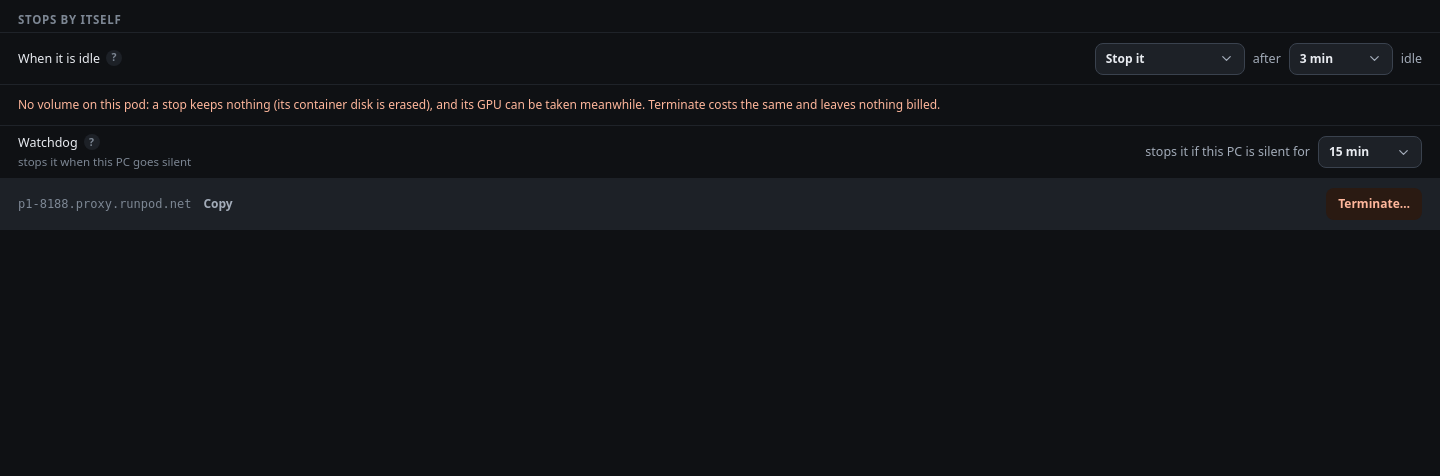
a pod's idle stop › can be set from 1 min, as a test pod uses 2–3
Click the button with aria-label "Minutes idle before" at (1341, 59), box [1289,43,1393,75]
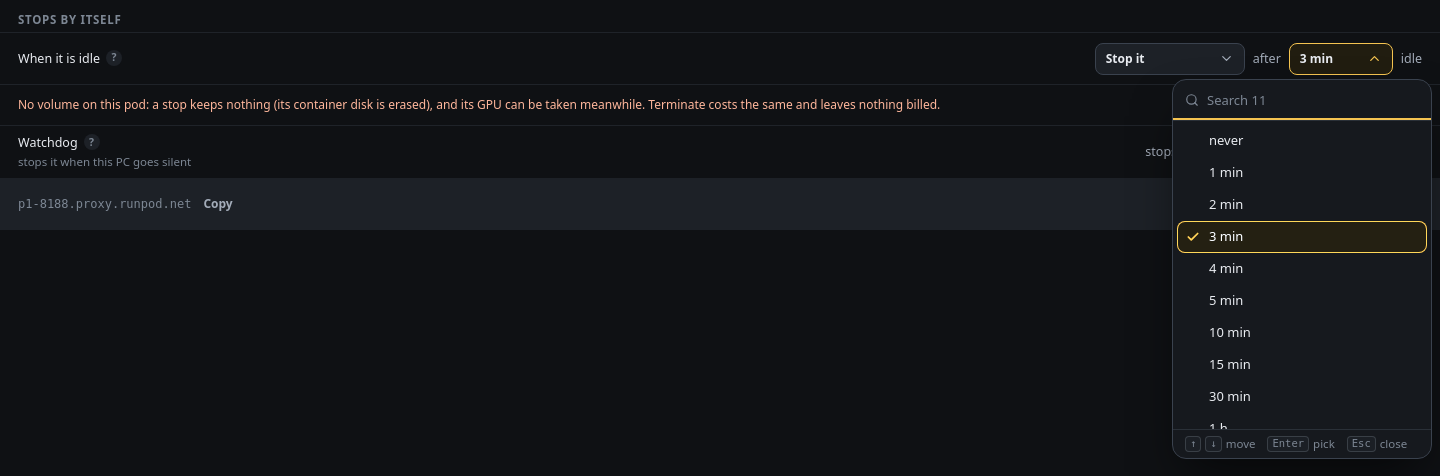
expect the option "1 min" is shown: met, box [1177,157,1427,189]
expect the option "2 min" is shown: met, box [1177,189,1427,221]
expect the option "3 min" is shown: met, box [1177,221,1427,253]
